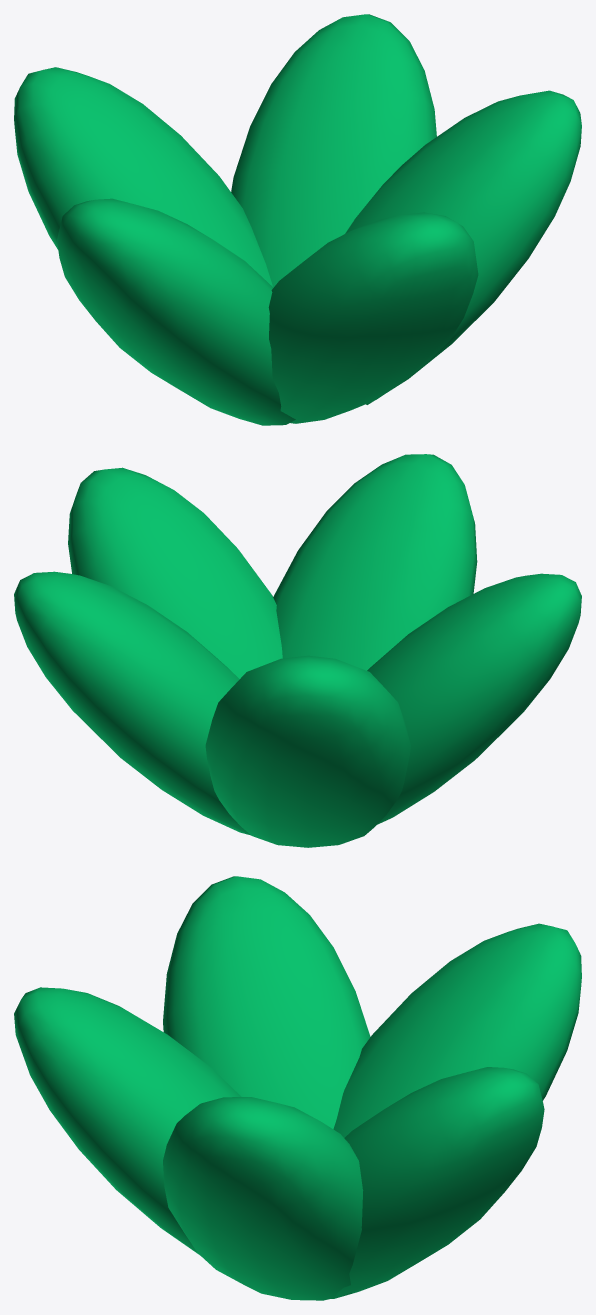
The model's file is Town_18_Grass_3.glb.
The picture shows the model from 3 angles, top to bottom: view 1: azimuth 30°, elevation 25°; view 2: azimuth 150°, elevation 25°; view 3: azimuth 270°, elevation 25°; orthographic projection. The views are drawn at different scales.
Visible parts, largest first — view 1: Town_18_Grass_3; view 2: Town_18_Grass_3; view 3: Town_18_Grass_3.
Boxes of the visible parts, x1,y1,x2,y2 form: Town_18_Grass_3: (14,14,581,425); Town_18_Grass_3: (14,454,581,847); Town_18_Grass_3: (14,876,581,1300).
Size of the model in its own units: 0.3223 by 0.1656 by 0.3074.
Materials: 1 (1 with a texture image).
